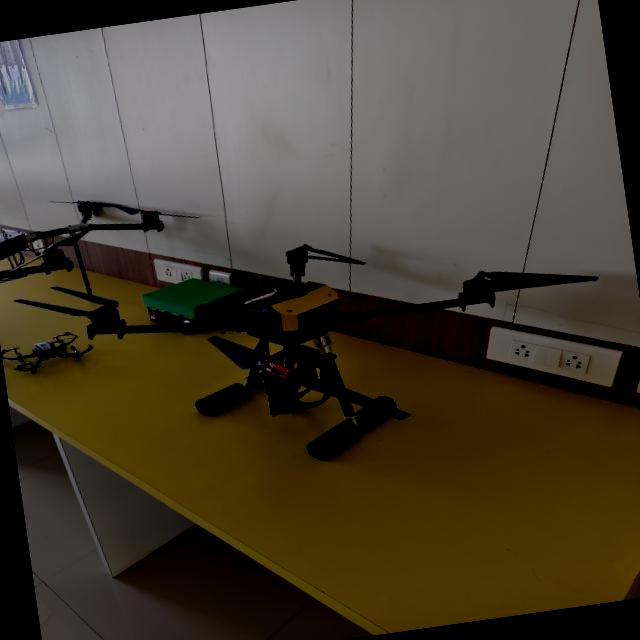quadcopter: (8, 186, 628, 501)
